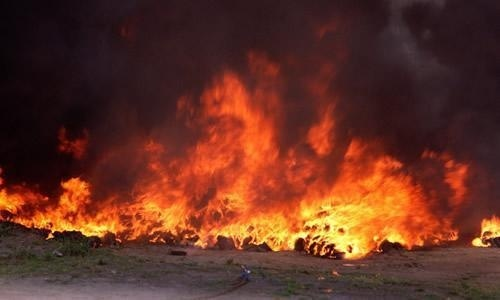fire: (23, 56, 500, 261)
